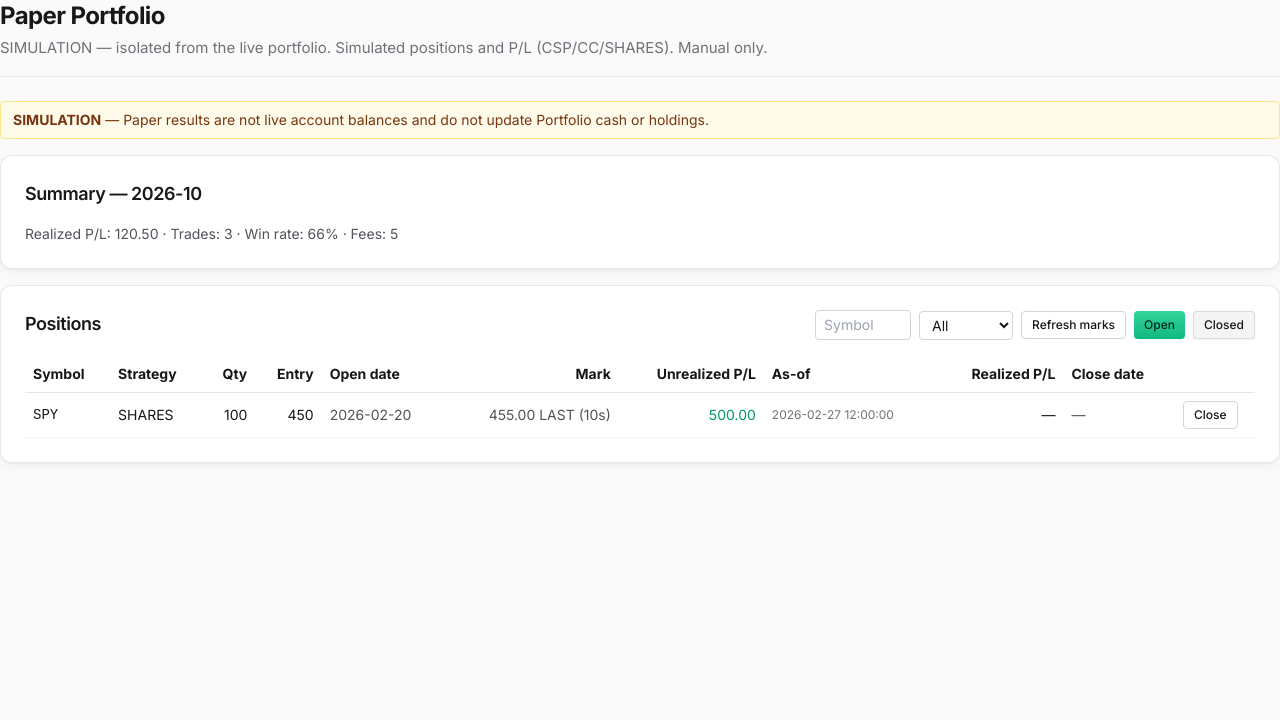
Test: PaperPage › Close button opens modal; modal has submit (R27.2)
Click the button with test id "paper-close-btn" at (1210, 415), box [1183, 401, 1238, 429]
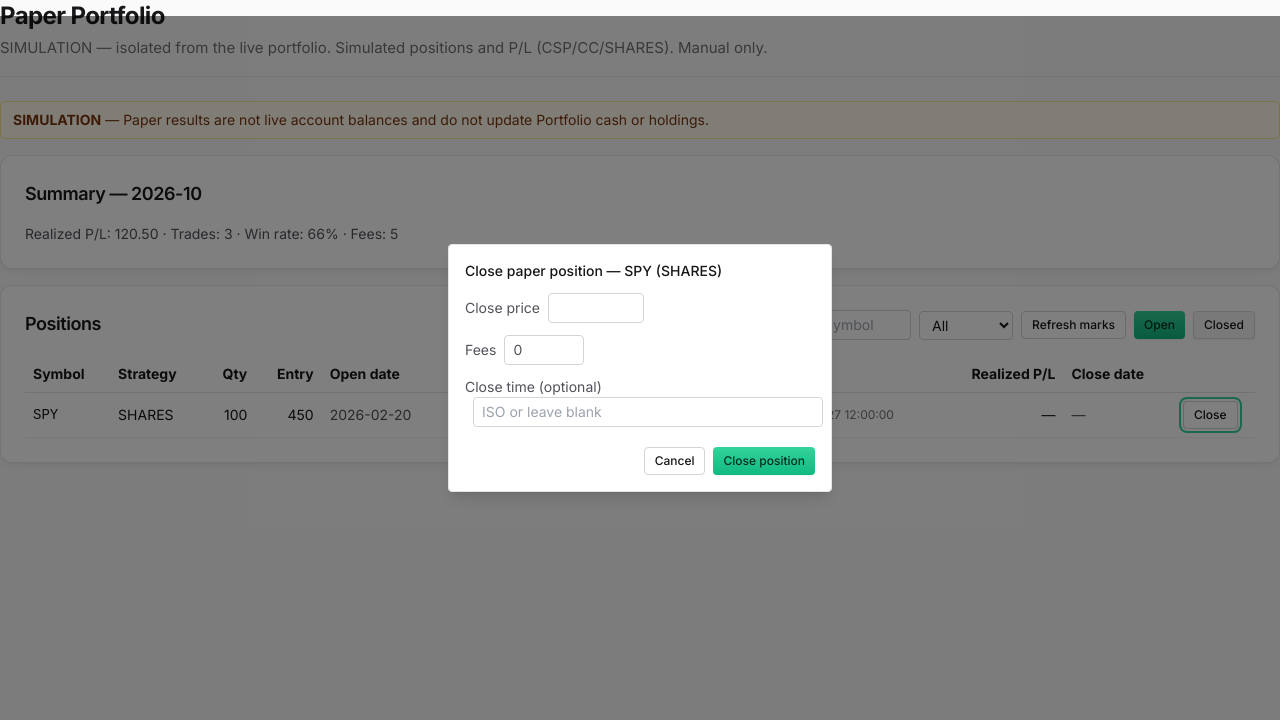
Expected: the dialog with test id "paper-close-modal" is shown
Expected: the button with test id "paper-close-submit" is shown, [714, 447, 815, 475]
Expected: the number field with test id "paper-close-price-input" is shown, [548, 293, 644, 323]
